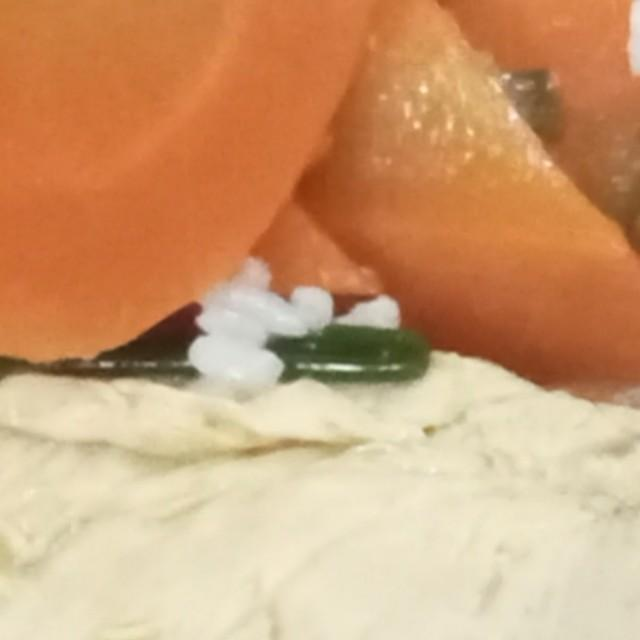com: (165, 238, 417, 419)
thit ga: (0, 254, 640, 640)
